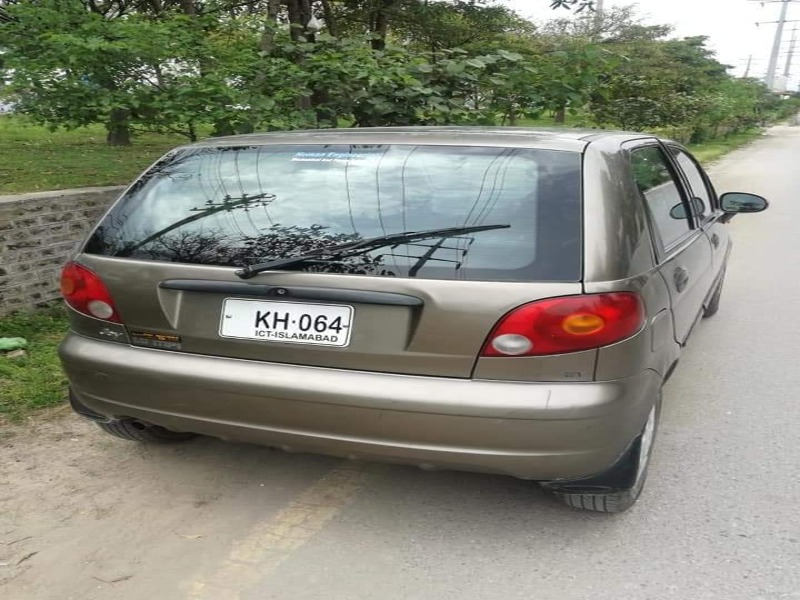License Plate: (213, 293, 357, 356)
